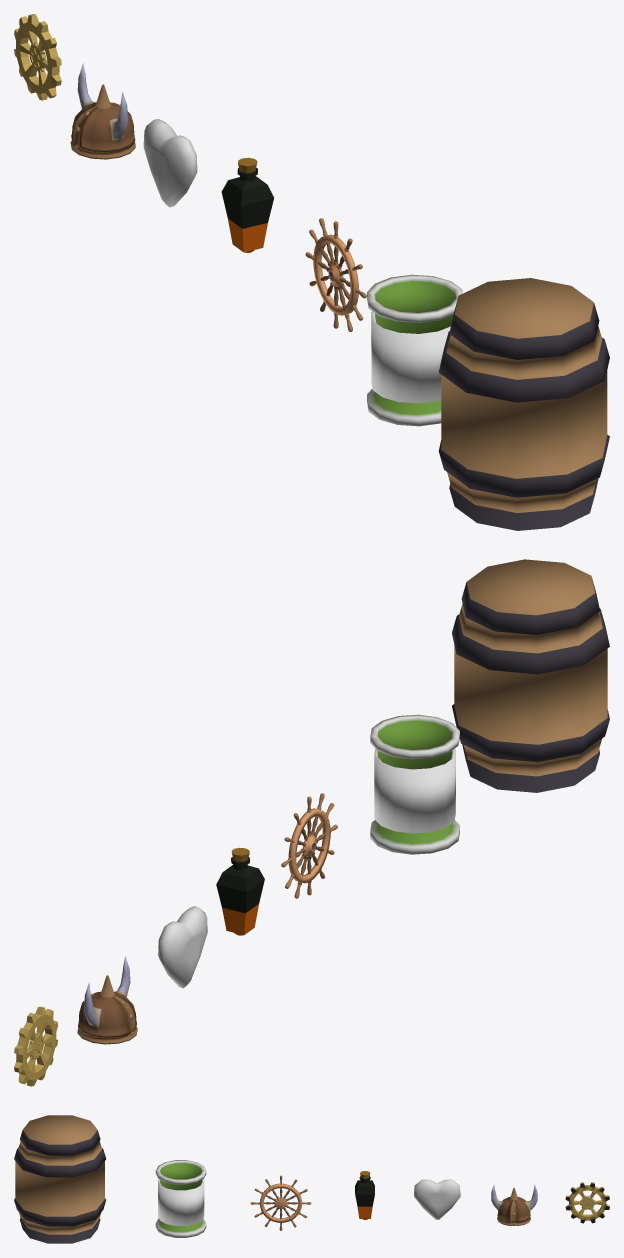
Rendered from LucasBozzi_889208.fbx_Collectibles.fbx.
The picture shows the model from 3 angles, top to bottom: view 1: azimuth 30°, elevation 25°; view 2: azimuth 150°, elevation 25°; view 3: azimuth 270°, elevation 25°; orthographic projection. The views are drawn at different scales.
Parts seen in each view (by area): view 1: Rum, SpinachCan, VikingStrengthPowerUp, PhoenixFlaskPowerUp, SteelHeartPowerUp, NauticWheelPowerUp, SteampunkPowerUp; view 2: Rum, SpinachCan, VikingStrengthPowerUp, PhoenixFlaskPowerUp, SteelHeartPowerUp, NauticWheelPowerUp, SteampunkPowerUp; view 3: Rum, SpinachCan, SteelHeartPowerUp, NauticWheelPowerUp, VikingStrengthPowerUp, SteampunkPowerUp, PhoenixFlaskPowerUp.
Part boxes in pixels (left/top/right/bottom): Rum: left=438, top=278, right=609, bottom=530; SpinachCan: left=367, top=274, right=462, bottom=426; VikingStrengthPowerUp: left=70, top=63, right=135, bottom=159; PhoenixFlaskPowerUp: left=221, top=157, right=273, bottom=252; SteelHeartPowerUp: left=143, top=118, right=197, bottom=207; NauticWheelPowerUp: left=305, top=218, right=366, bottom=331; SteampunkPowerUp: left=14, top=14, right=61, bottom=100; Rum: left=452, top=559, right=609, bottom=792; SpinachCan: left=370, top=714, right=459, bottom=854; VikingStrengthPowerUp: left=77, top=956, right=137, bottom=1044; PhoenixFlaskPowerUp: left=216, top=847, right=264, bottom=935; SteelHeartPowerUp: left=158, top=906, right=207, bottom=988; NauticWheelPowerUp: left=281, top=793, right=337, bottom=898; SteampunkPowerUp: left=14, top=1006, right=57, bottom=1086; Rum: left=14, top=1115, right=105, bottom=1243; SpinachCan: left=155, top=1160, right=206, bottom=1237; SteelHeartPowerUp: left=414, top=1179, right=460, bottom=1219; NauticWheelPowerUp: left=250, top=1175, right=311, bottom=1230; VikingStrengthPowerUp: left=491, top=1184, right=537, bottom=1225; SteampunkPowerUp: left=565, top=1182, right=609, bottom=1223; PhoenixFlaskPowerUp: left=355, top=1171, right=374, bottom=1219.
Size of the model in its own units: 455 by 582 by 3168.
